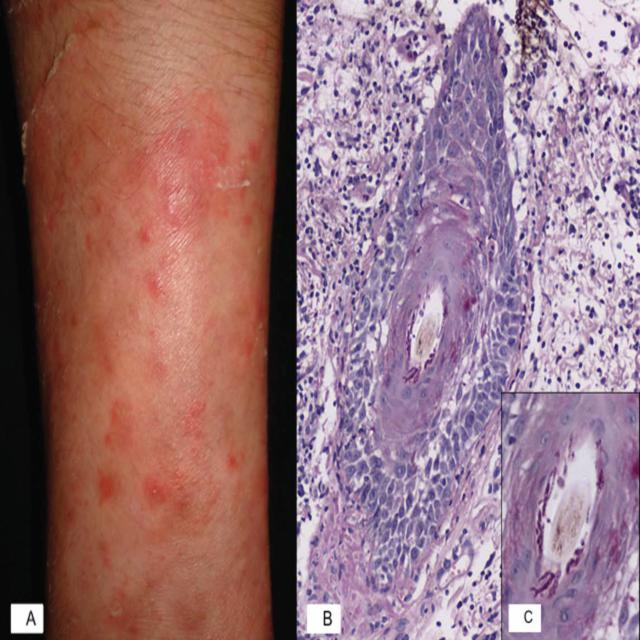eczema: (78, 87, 252, 568)
